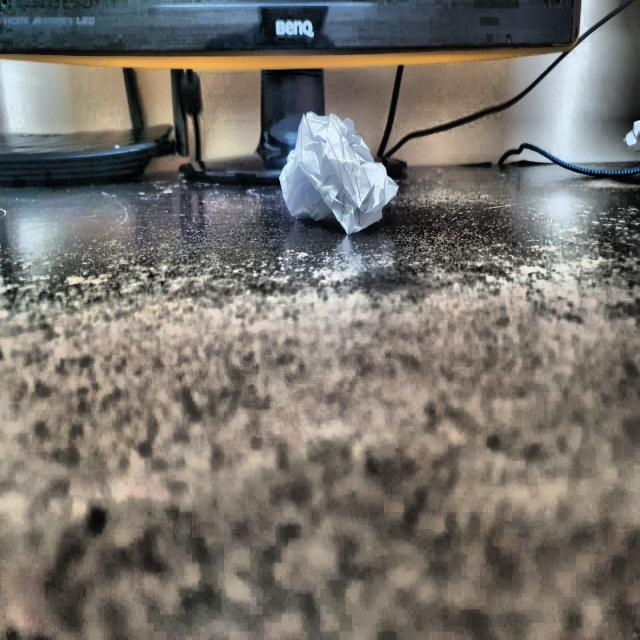Paper: (278, 112, 392, 238)
